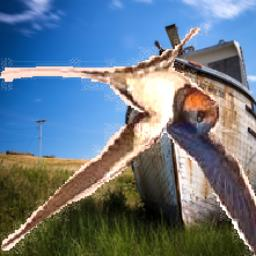Swallow: (0, 25, 256, 256)
